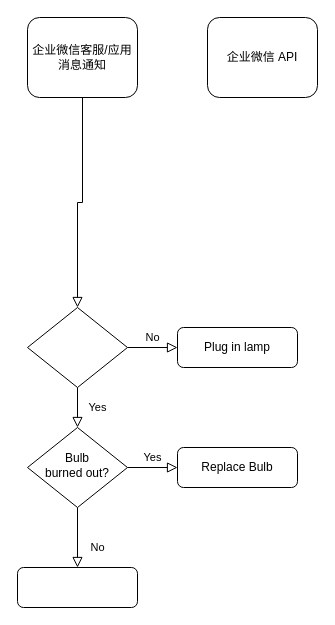
The diagram is 335 pixels wide and 625 high, and some of its shapes have lost their labels. The centre of each missing label's shape, as x and y in pixels:
Lamp plugged in?: point (77, 347)
Repair Lamp: point (77, 587)
